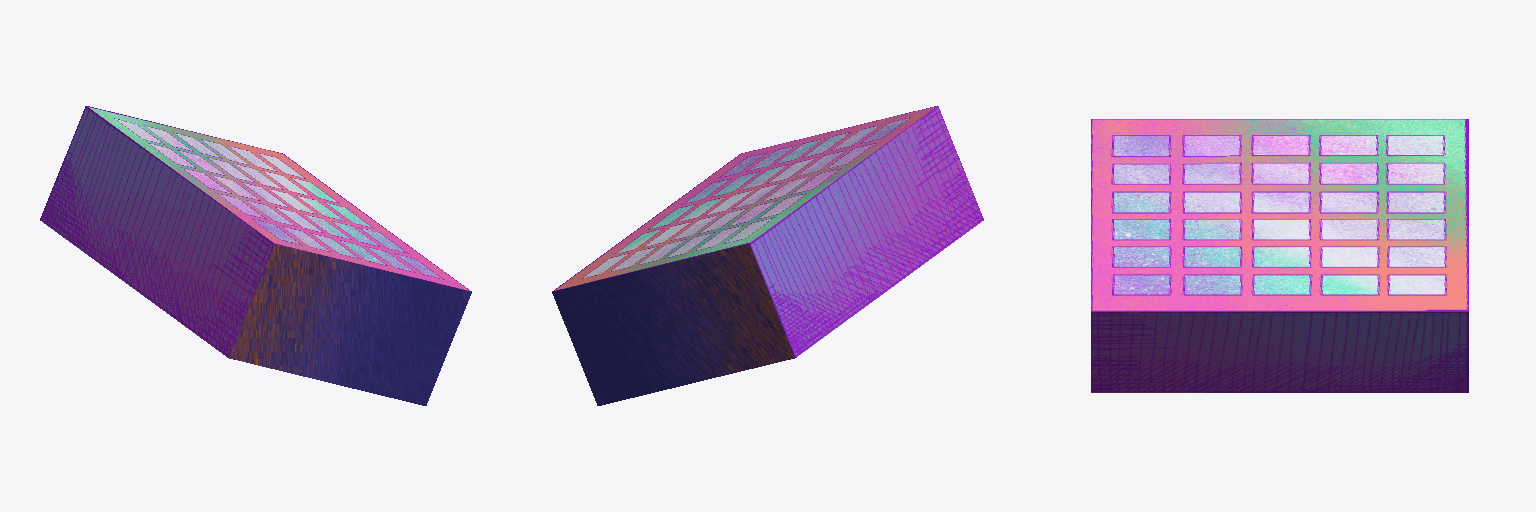
3 renders of one model, left to right at view 1: azimuth 30°, elevation 25°; view 2: azimuth 150°, elevation 25°; view 3: azimuth 270°, elevation 25°, orthographic.
Visible parts, largest first — view 1: Build_C_Top; view 2: Build_C_Top; view 3: Build_C_Top.
Part boxes in pixels (x1,y1,x2,y2): Build_C_Top: (40,106,471,405); Build_C_Top: (552,106,983,405); Build_C_Top: (1091,119,1468,392).
Bounding box in the file's own units: 0.2862 × 0.2242 × 0.384.
Materials: 1 (1 with a texture image).